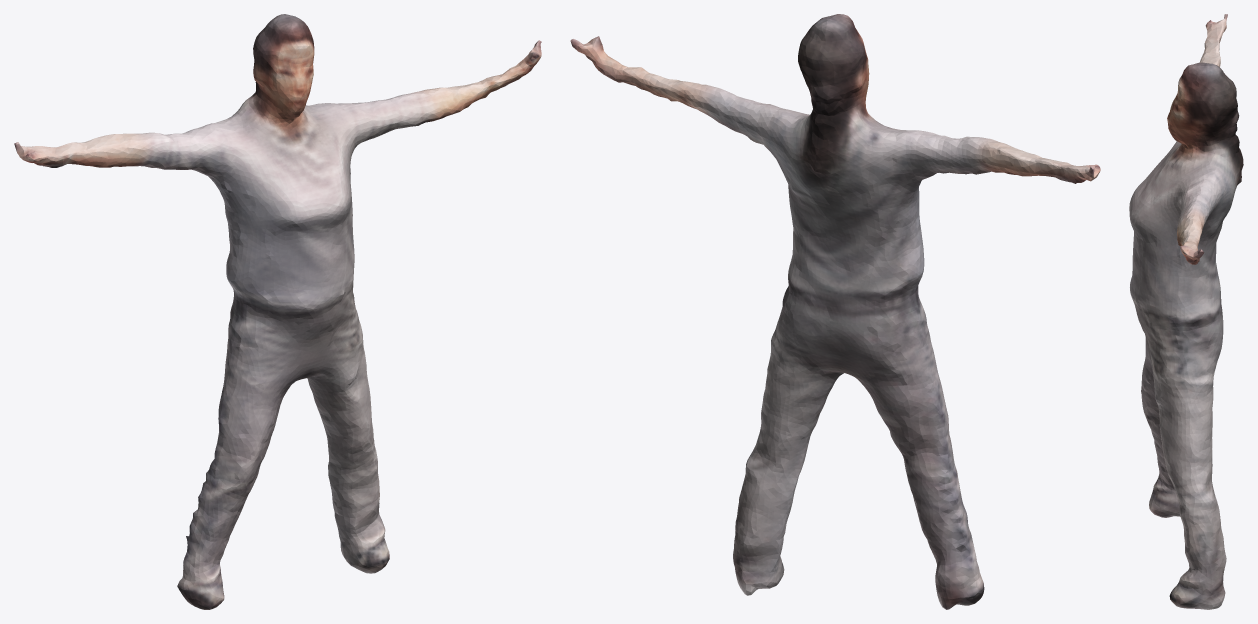
The model's file is tea.glb.
3 renders of one model, left to right at view 1: azimuth 30°, elevation 25°; view 2: azimuth 150°, elevation 25°; view 3: azimuth 270°, elevation 25°, orthographic. The views are drawn at different scales.
Size of the model in its own units: 1.13 by 1.19 by 0.2412.
1 material, 1 textured.
